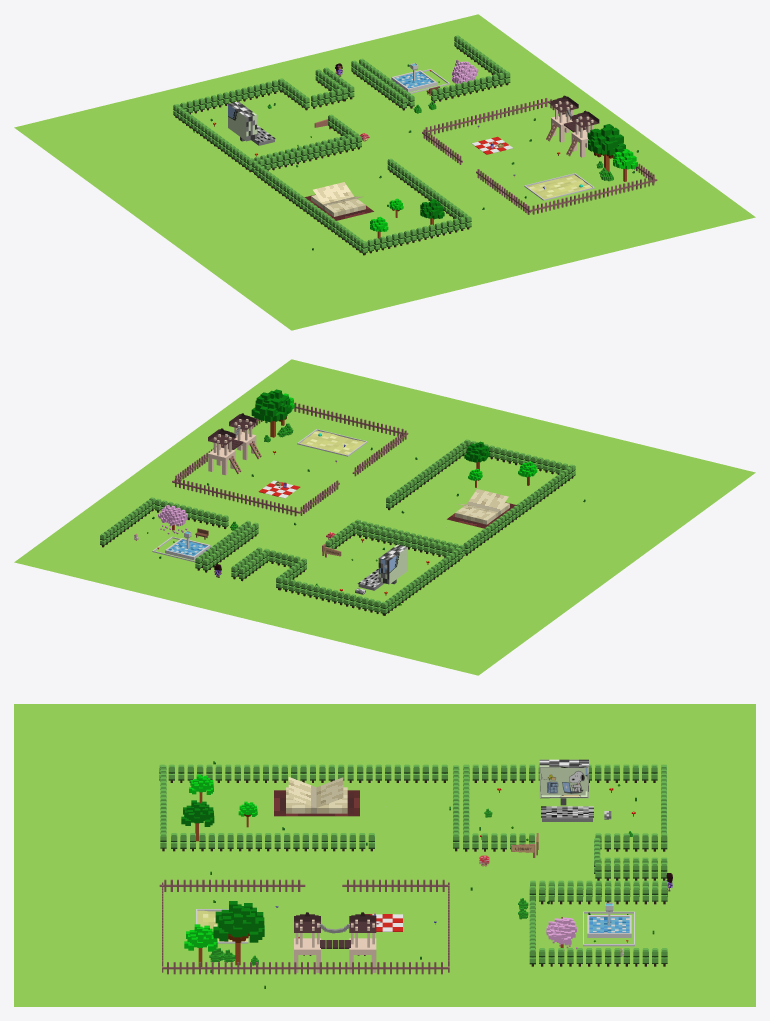
The model's file is creativeblender.glb.
3 renders of one model, top to bottom at view 1: azimuth 30°, elevation 25°; view 2: azimuth 150°, elevation 25°; view 3: azimuth 270°, elevation 25°, orthographic. The views are drawn at different scales.
Visible parts, largest first — view 1: Plane, playground, Cube.030, book, Cube.042, Cube.014, Cube.026, computer, Cube.027, Cube.044, Cube.083, Cube.108 (+6 smaller); view 2: Plane, playground, Cube.030, book, Cube.026, Cube.028, computer, Cube.044, Cube.027, Cube.042, Cube.108, Cube.090 (+6 smaller); view 3: Plane, Cube.030, computer, book, playground, Cube.044, Cube.091, Cube.027, Cube.016, Cube.084, Cube.108, Cube.043 (+10 smaller).
Part boxes in pixels (left/top/right/bottom): Plane: left=14, top=14, right=755, bottom=330; playground: left=546, top=95, right=599, bottom=157; Cube.030: left=255, top=164, right=367, bottom=255; book: left=304, top=182, right=373, bottom=220; Cube.042: left=362, top=215, right=471, bottom=254; Cube.014: left=252, top=135, right=361, bottom=174; Cube.026: left=175, top=79, right=283, bottom=114; computer: left=228, top=101, right=275, bottom=145; Cube.027: left=173, top=104, right=251, bottom=172; Cube.044: left=387, top=158, right=467, bottom=221; Cube.083: left=431, top=71, right=510, bottom=102; Cube.108: left=588, top=124, right=625, bottom=155; Plane: left=14, top=359, right=755, bottom=675; playground: left=208, top=413, right=261, bottom=475; Cube.030: left=463, top=464, right=575, bottom=555; book: left=447, top=489, right=516, bottom=528; Cube.026: left=278, top=576, right=385, bottom=615; Cube.028: left=351, top=522, right=458, bottom=558; computer: left=357, top=544, right=407, bottom=590; Cube.044: left=386, top=442, right=466, bottom=510; Cube.027: left=381, top=548, right=461, bottom=615; Cube.042: left=464, top=439, right=572, bottom=476; Cube.108: left=251, top=389, right=291, bottom=422; Cube.090: left=172, top=478, right=299, bottom=516; Plane: left=14, top=704, right=755, bottom=1006; Cube.030: left=159, top=764, right=447, bottom=782; computer: left=539, top=759, right=593, bottom=821; book: left=274, top=777, right=359, bottom=816; playground: left=294, top=912, right=376, bottom=972; Cube.044: left=171, top=833, right=374, bottom=851; Cube.091: left=162, top=962, right=447, bottom=974; Cube.027: left=463, top=764, right=666, bottom=782; Cube.016: left=529, top=886, right=667, bottom=904; Cube.084: left=529, top=948, right=667, bottom=966; Cube.108: left=213, top=901, right=264, bottom=942; Cube.043: left=587, top=902, right=631, bottom=937.
Size of the model in its own units: 199 by 30.3 by 206.
Materials: 111 (2 with a texture image).
